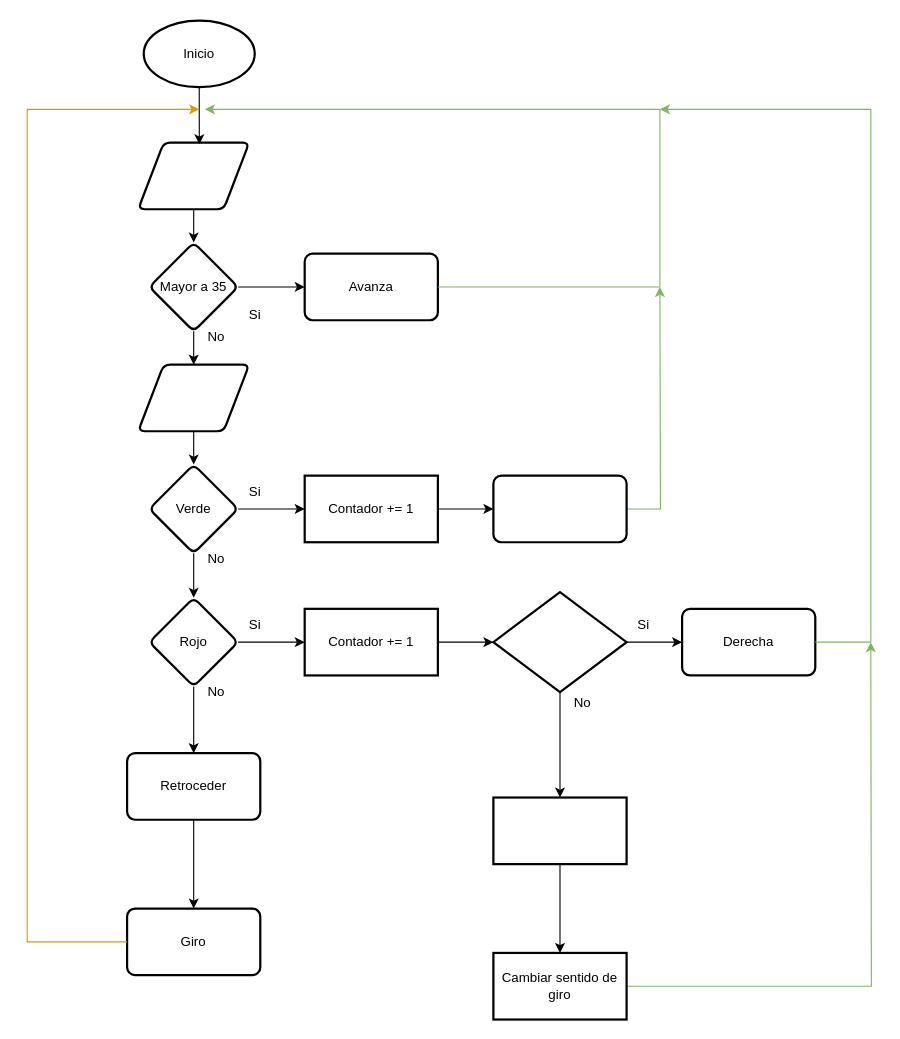
Some shapes in this 900 by 1039 pixel diagram are drawn without their labels. The centre of each missing label's shape, as x and y in pixels:
"Color" goes at pixel 193 397.
"Contador < 12" goes at pixel 559 642.
"Distancia" goes at pixel 193 175.
"Giro en 180 grados" goes at pixel 559 830.
"Izquierda" goes at pixel 559 508.
